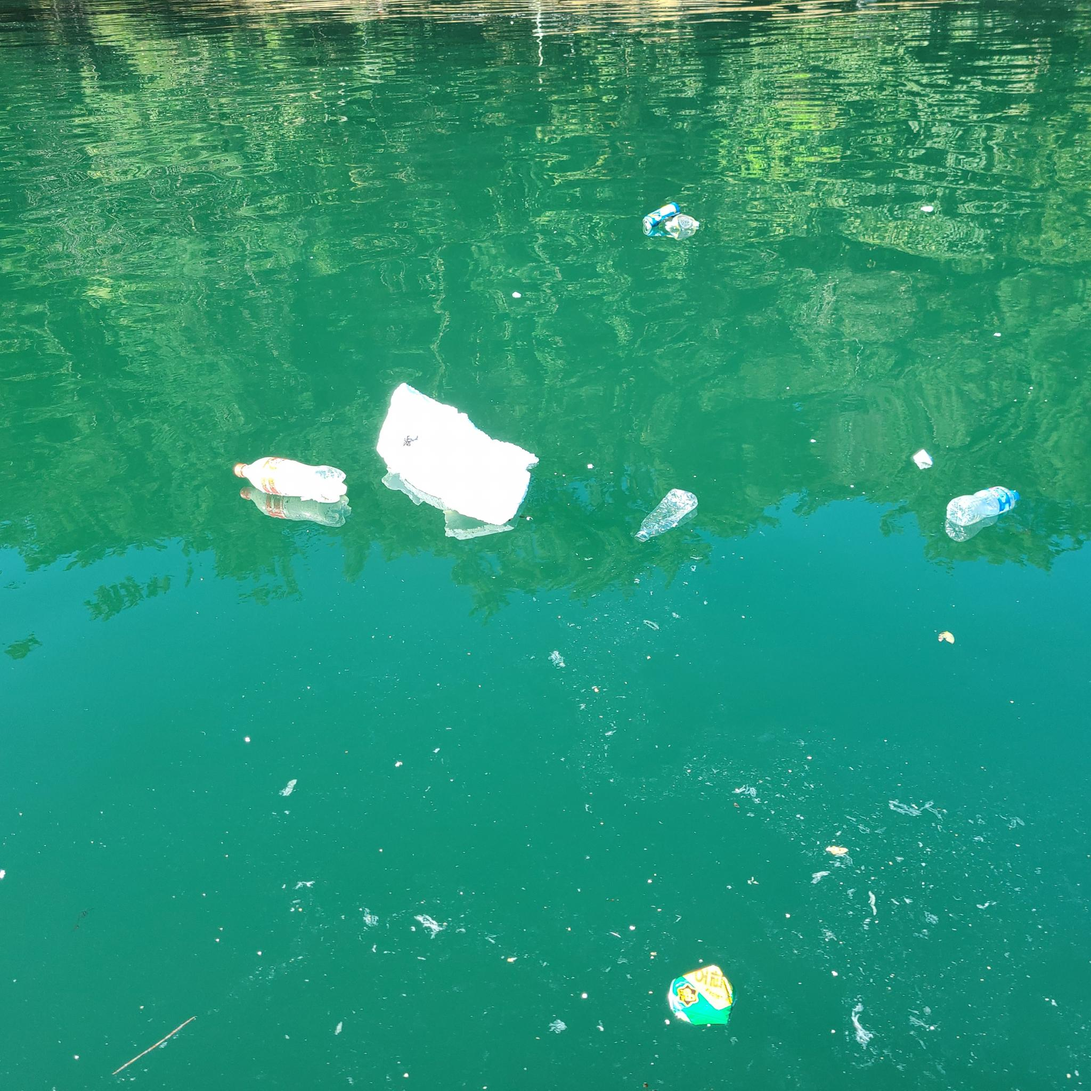sampah_terapung: (377, 383, 540, 526), (234, 458, 347, 504), (669, 965, 735, 1026), (635, 488, 698, 542), (947, 486, 1020, 527), (643, 202, 680, 227), (664, 214, 696, 231), (914, 449, 933, 466)
